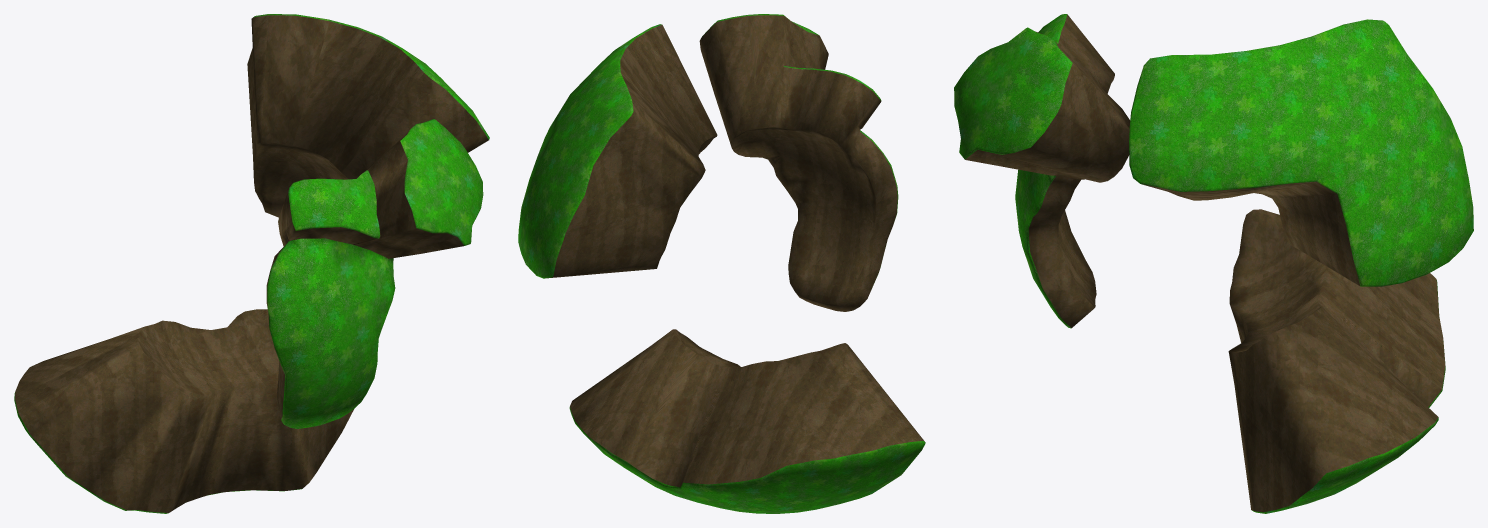
Rendered from HikeGardenTicoHungerPlanet.obj.
3 views of the same model, side by side, from view 1: azimuth 30°, elevation 25°; view 2: azimuth 150°, elevation 25°; view 3: azimuth 270°, elevation 25° (orthographic). The views are drawn at different scales.
Parts seen in each view (by area): view 1: Sphere.001_Sphere.006; view 2: Sphere.001_Sphere.006; view 3: Sphere.001_Sphere.006.
Boxes of the visible parts, bbox=[...] form: Sphere.001_Sphere.006: bbox=[14, 14, 489, 513]; Sphere.001_Sphere.006: bbox=[518, 14, 925, 513]; Sphere.001_Sphere.006: bbox=[954, 14, 1473, 513].
Size of the model in its own units: 8681 by 8962 by 8306.
